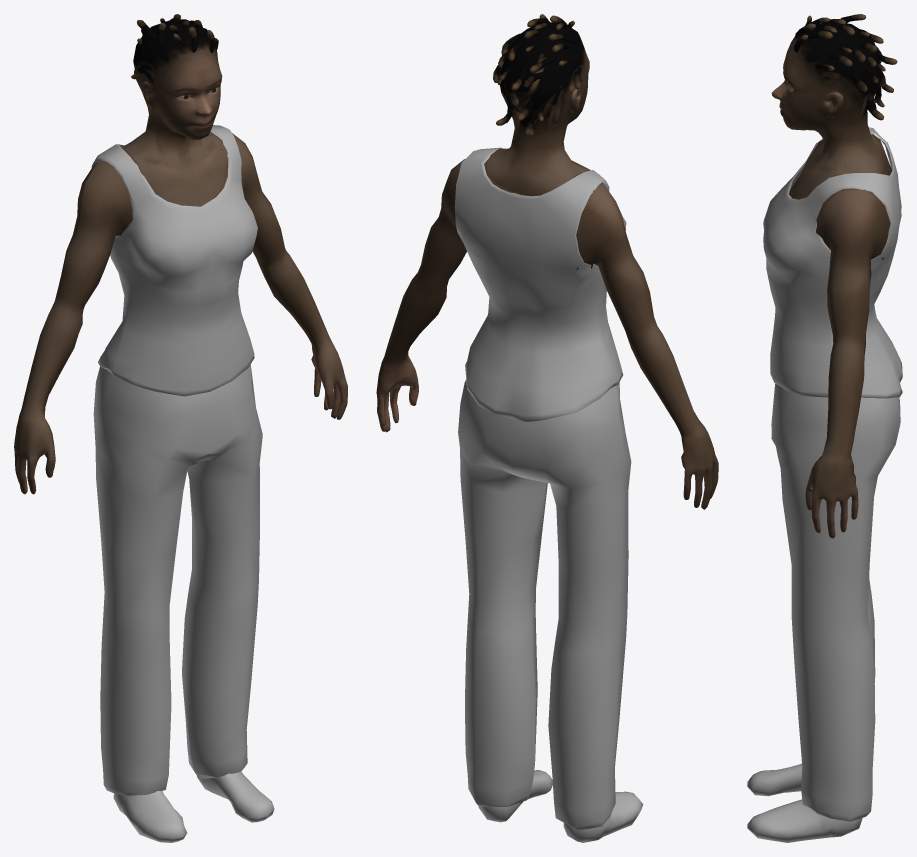
The model's file is Ray.fbx.
3 views of the same model, side by side, from view 1: azimuth 30°, elevation 25°; view 2: azimuth 150°, elevation 25°; view 3: azimuth 270°, elevation 25° (orthographic). The views are drawn at different scales.
Parts seen in each view (by area): view 1: Pants, Upper_Body, Shirt, Socks; view 2: Pants, Upper_Body, Shirt, Socks; view 3: Pants, Upper_Body, Shirt, Socks.
Part boxes in pixels (<box>): Pants: <box>93,364,262,795</box>; Upper_Body: <box>14,14,347,494</box>; Shirt: <box>91,125,257,396</box>; Socks: <box>113,771,274,842</box>; Pants: <box>458,379,631,830</box>; Upper_Body: <box>376,14,718,509</box>; Shirt: <box>454,147,626,421</box>; Socks: <box>478,770,643,842</box>; Pants: <box>771,383,900,821</box>; Upper_Body: <box>771,14,897,538</box>; Shirt: <box>763,127,902,398</box>; Socks: <box>747,763,862,842</box>.
Size of the model in its own units: 2.96 by 6.86 by 1.22.
Materials: 2 (1 with a texture image).
